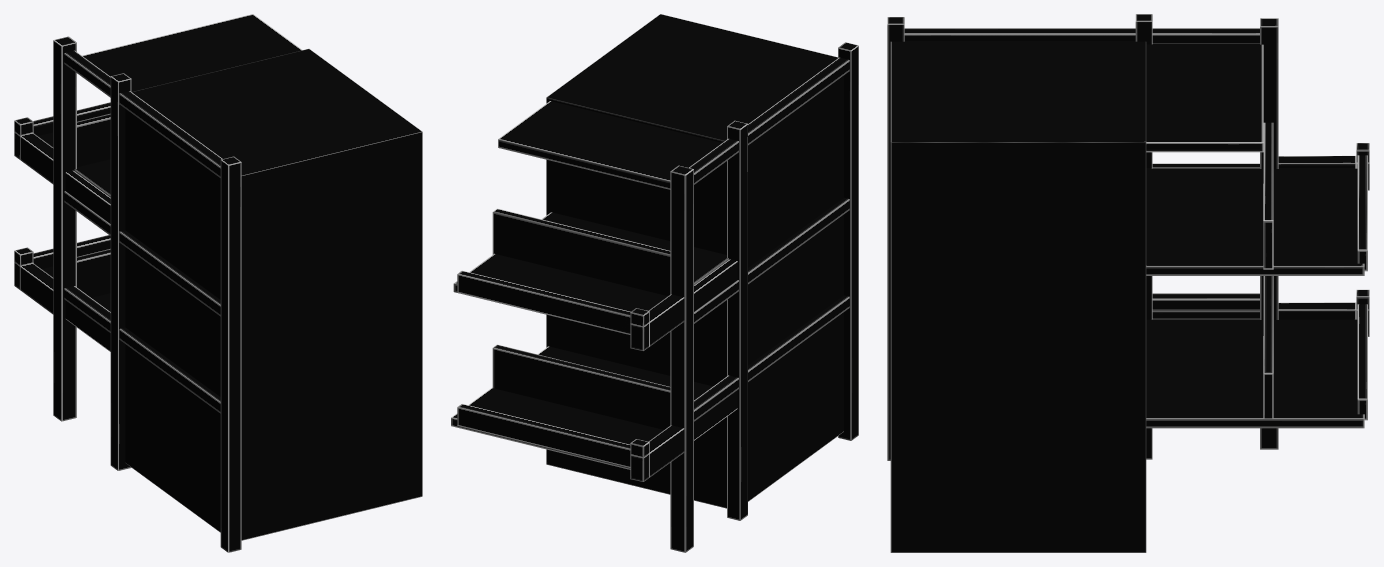
Rendered from build.fbx.
3 views of the same model, side by side, from view 1: azimuth 30°, elevation 25°; view 2: azimuth 150°, elevation 25°; view 3: azimuth 270°, elevation 25° (orthographic). The views are drawn at different scales.
Parts seen in each view (by area): view 1: polySurface18; view 2: polySurface18; view 3: polySurface18.
Part boxes in pixels (x1,y1,x2,y2): polySurface18: (14,14,422,552); polySurface18: (451,14,858,552); polySurface18: (887,14,1369,552).
Bounding box in the file's own units: 55.81 × 106 × 105.
